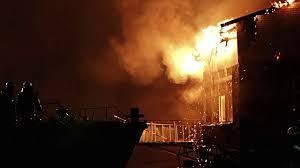fire: (173, 18, 239, 75)
